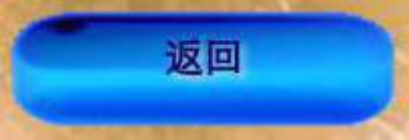Button: (1, 1, 408, 139)
